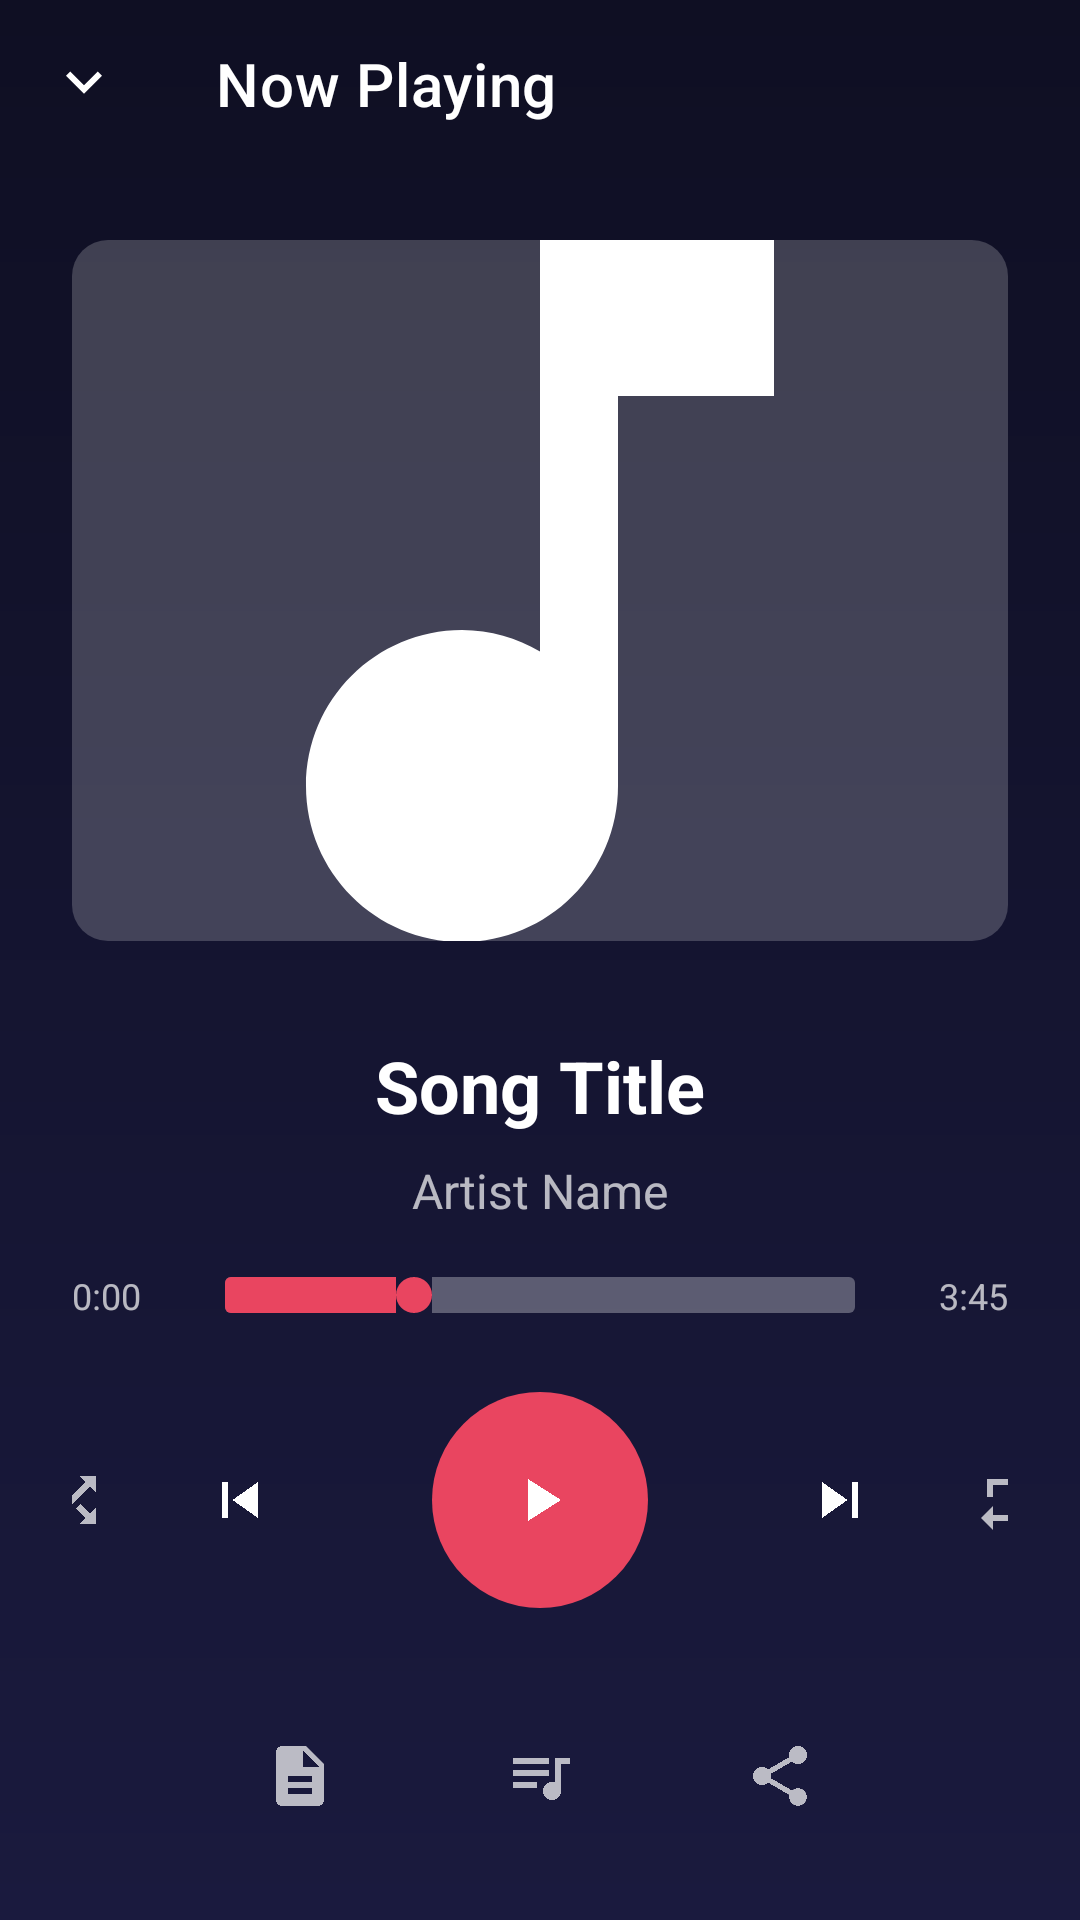

Locate icon controls on the screen. Image size 1080x1920, boxes as (x1, y1, x2, y2).
Lyrics: (276, 1746, 324, 1806)
Next: (822, 1482, 858, 1518)
Play/Pause: (432, 1392, 648, 1608)
Previous: (222, 1482, 258, 1518)
Queue: (513, 1758, 570, 1800)
Share: (753, 1746, 807, 1806)
